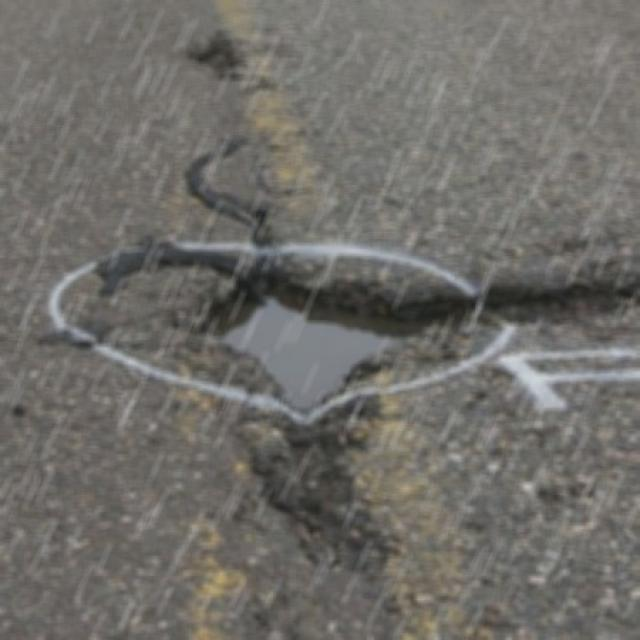road-pothole: (178, 224, 626, 583)
